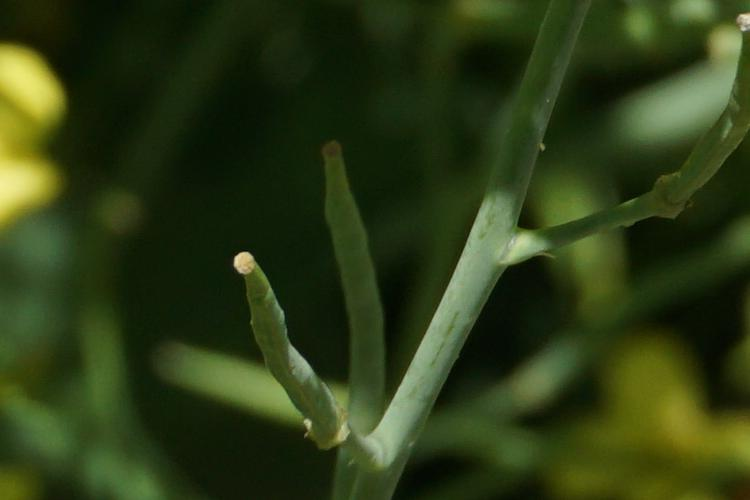pod: (267, 125, 405, 419), (190, 241, 363, 466)
